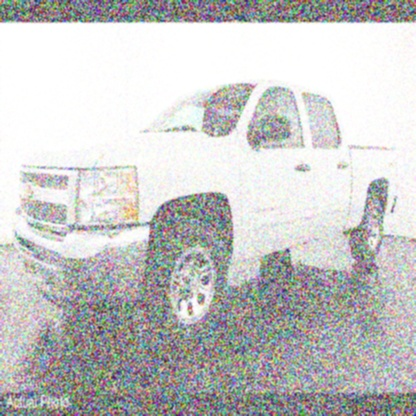Vehicle: (11, 79, 400, 353)
